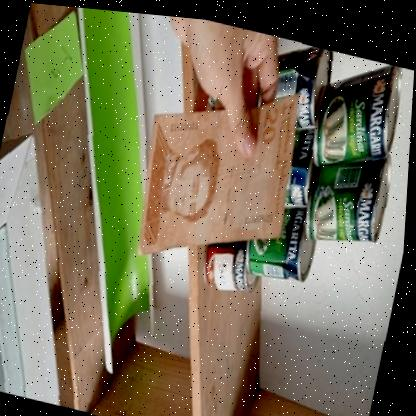vef_front: (125, 53, 311, 282)
